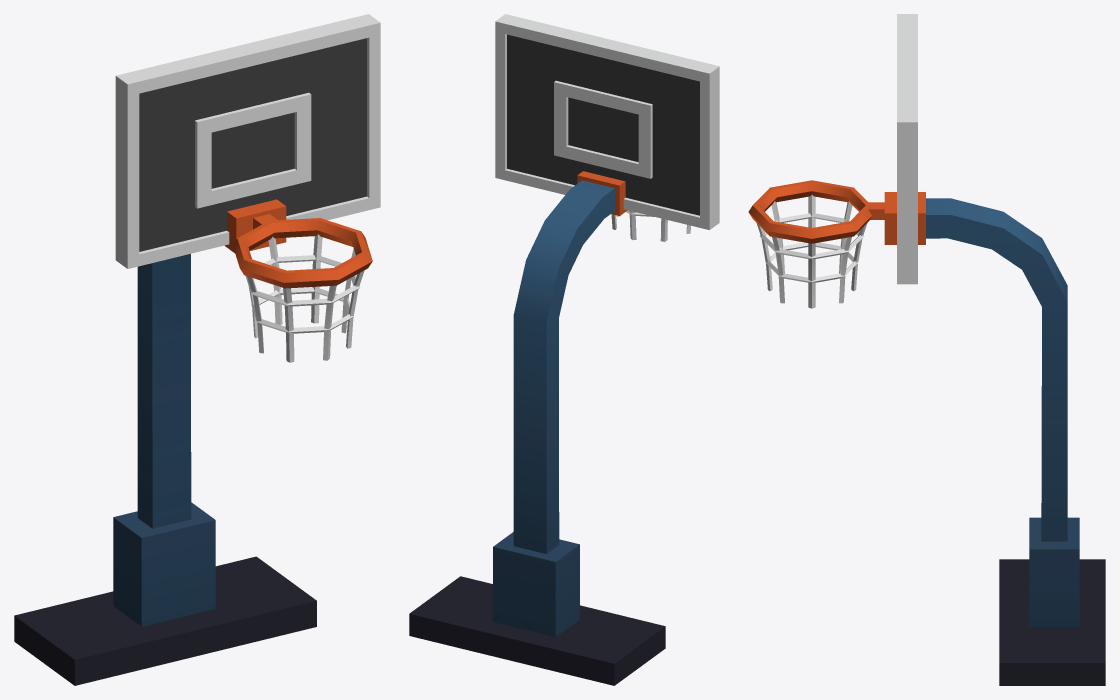
File: Basketball_Stand_F.glb
3 views of the same model, side by side, from view 1: azimuth 30°, elevation 25°; view 2: azimuth 150°, elevation 25°; view 3: azimuth 270°, elevation 25° (orthographic). The views are drawn at different scales.
Visible parts, largest first — view 1: Basketball_Stand_F; view 2: Basketball_Stand_F; view 3: Basketball_Stand_F.
Part boxes in pixels (box(x1,y1,x2,y2)): Basketball_Stand_F: box(14, 14, 380, 685); Basketball_Stand_F: box(409, 14, 719, 685); Basketball_Stand_F: box(748, 14, 1105, 685).
Bounding box in the file's own units: 1.54 × 3.76 × 2.15.
Materials: 2 (2 with a texture image).
